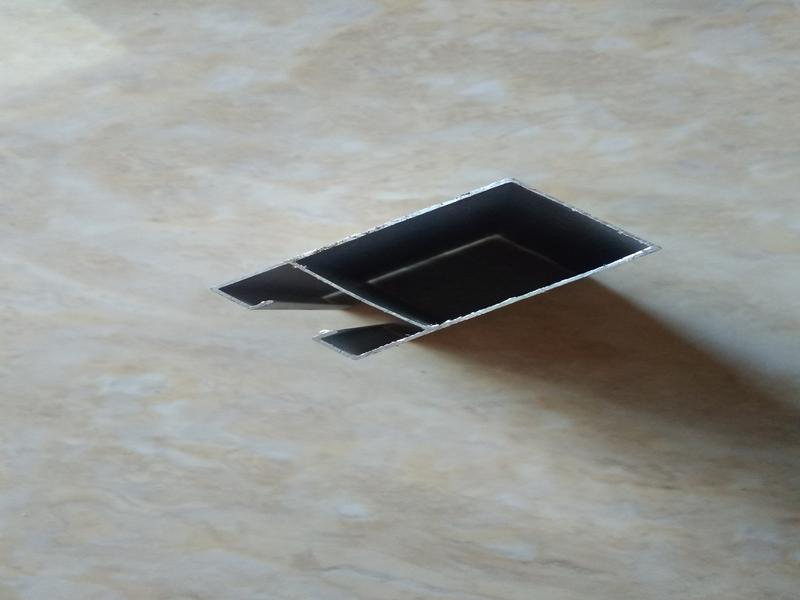Aluminium_1: (202, 128, 691, 399)
